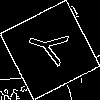Y: (25, 25, 78, 70)
